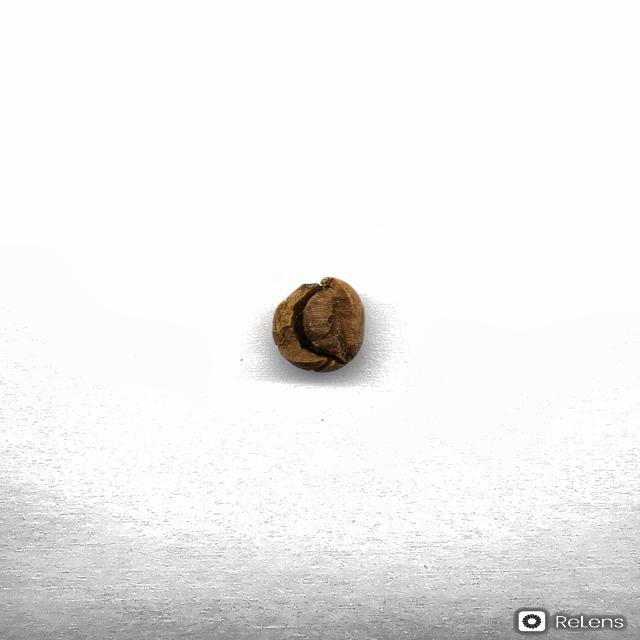Broken: (271, 276, 366, 373)
